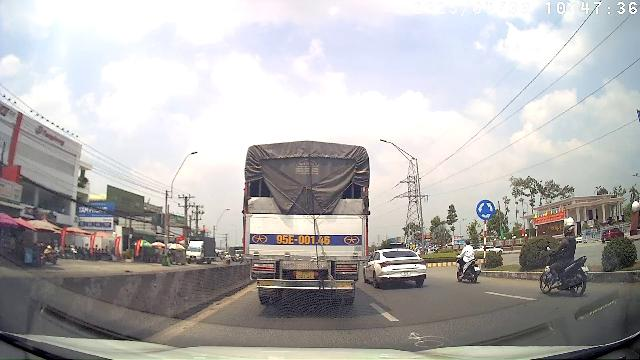303-noi-giao-nhau-chay-theo-vong-xuyen: (476, 200, 496, 221)
